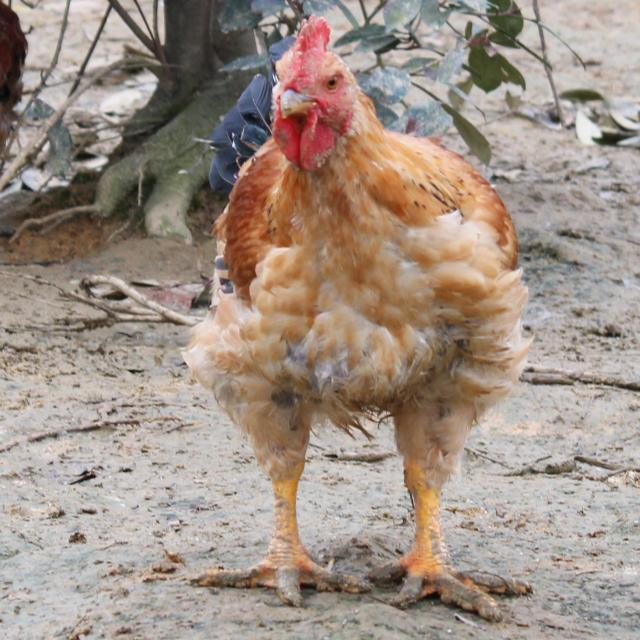hen: (184, 16, 530, 620)
